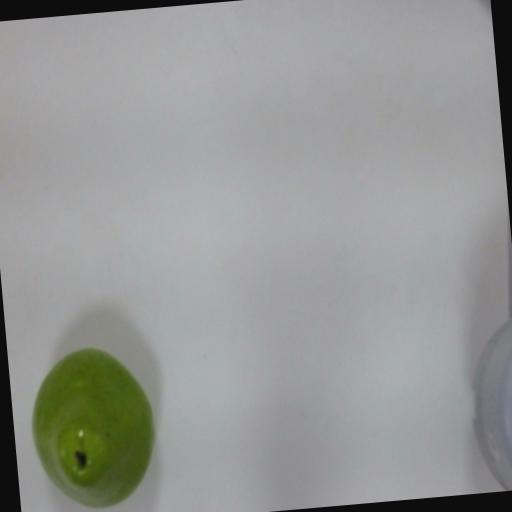Unripe: (20, 325, 170, 512)
